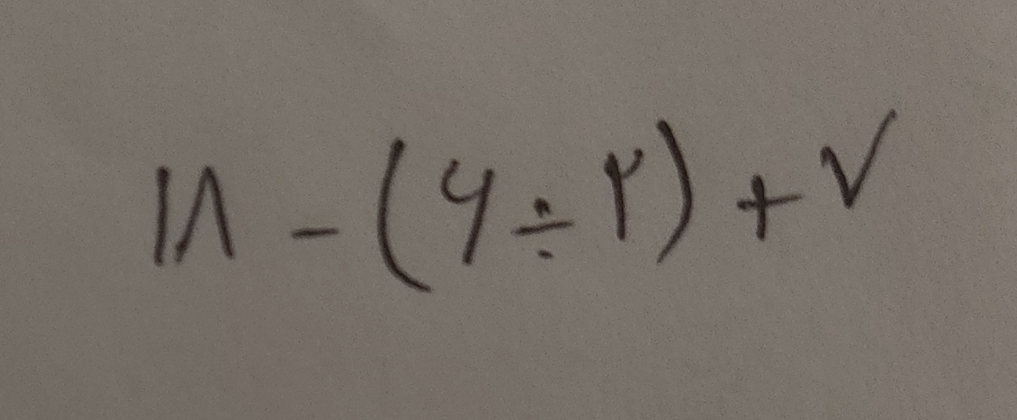character: (374, 137, 439, 304), (818, 109, 907, 219), (655, 118, 712, 276), (174, 164, 248, 276), (439, 158, 502, 280), (735, 173, 814, 255), (603, 145, 656, 250), (510, 197, 583, 273), (151, 163, 185, 286), (289, 225, 352, 255)
